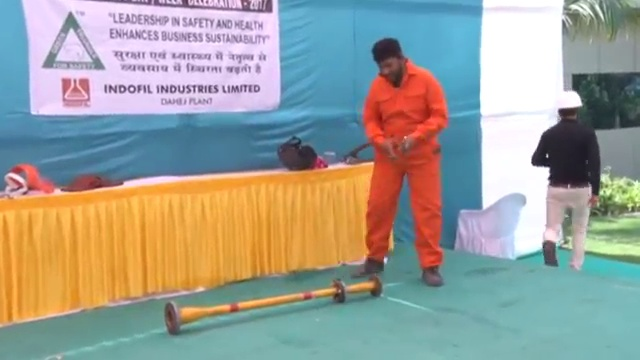helmet: (554, 88, 585, 110)
helmet_off: (370, 37, 406, 82)
helmet_on: (551, 88, 584, 123)
person: (363, 37, 447, 285), (534, 88, 602, 271)
